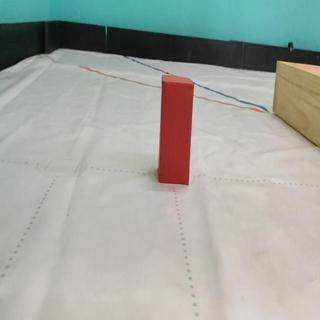redbox: (157, 73, 194, 186)
